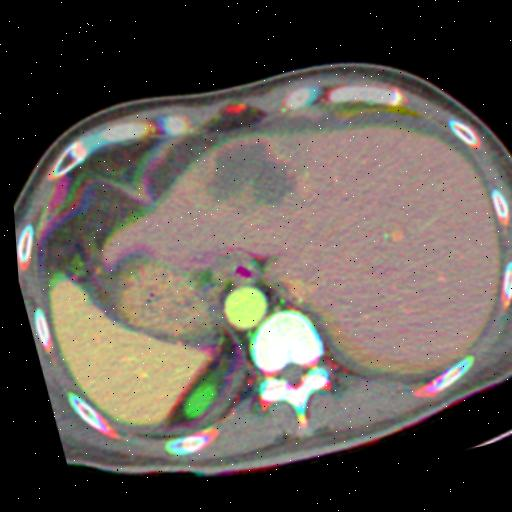Tumor: (206, 143, 293, 211)
